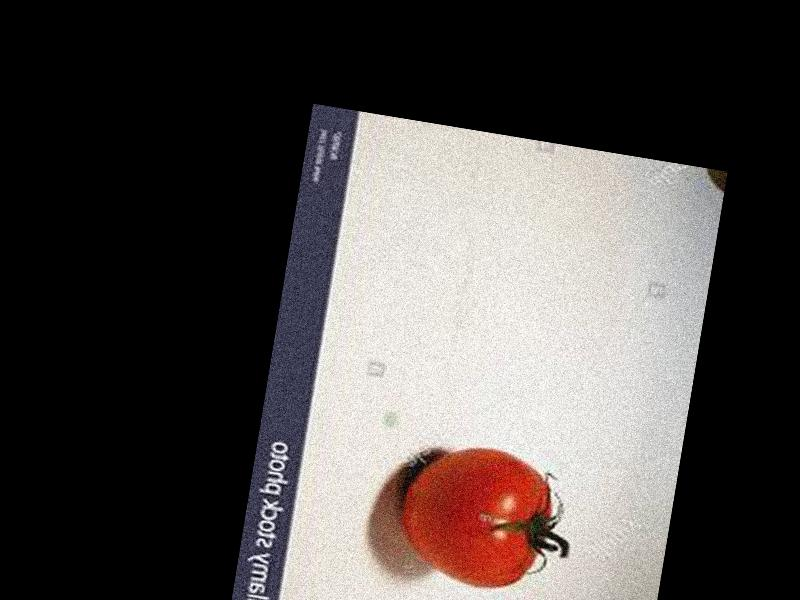Tomato: (391, 436, 557, 595)
